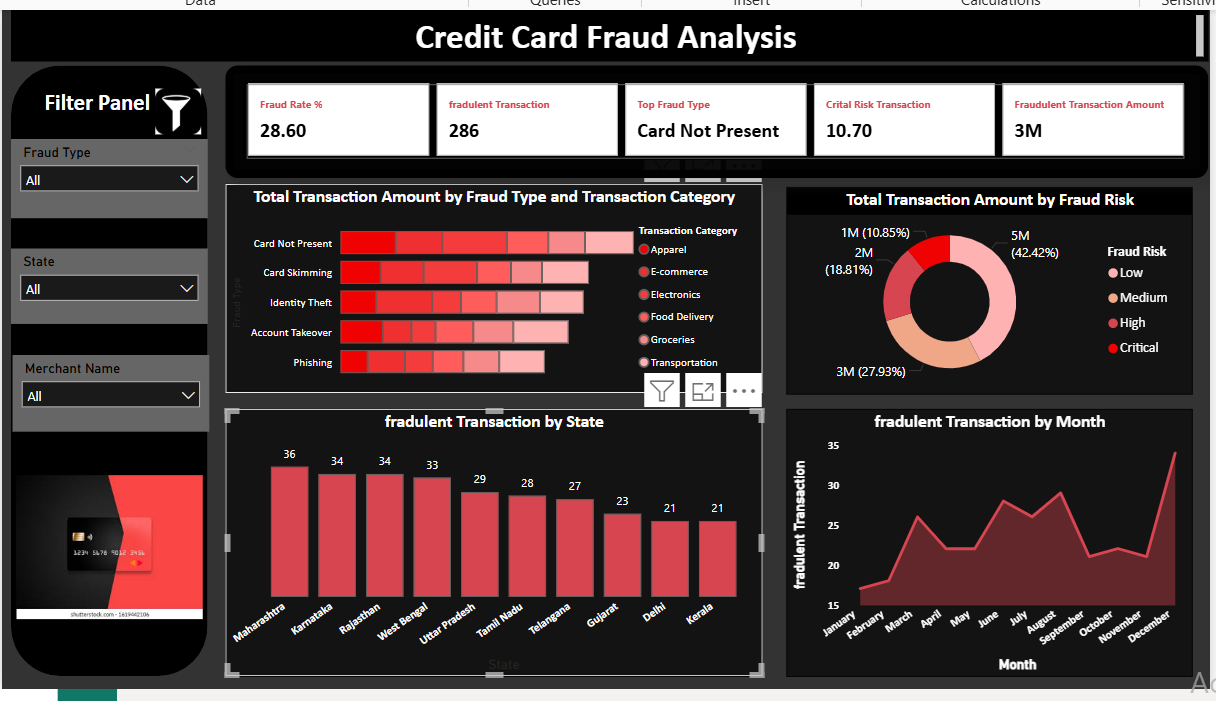

This screenshot's page, from the dashboard's own definition file:
{"tool":"powerbi","page":{"name":"Page 1","canvas":[1280,720],"ordinal":0},"visuals":[{"type":"textbox","box":[9.4,0,1269.9,54.8],"z":0},{"type":"shape","box":[9.5,58.9,208.4,647.4],"z":1000},{"type":"textbox","box":[31.8,77.9,138.4,58.9],"z":2000},{"type":"image","box":[155.9,77.9,62,58.9],"z":3000},{"type":"barChart","fields":{"Y":["Credit Card Fraud Risk Analysis.Total Transaction Amount"],"Category":["Credit Card Fraud Risk Analysis.Fraud Type"],"Series":["Credit Card Fraud Risk Analysis.Transaction Category"]},"box":[237.6,185,568.6,220],"z":4000},{"type":"donutChart","fields":{"Y":["Credit Card Fraud Risk Analysis.Total Transaction Amount"],"Category":["Credit Card Fraud Risk Analysis.Fraud Risk"]},"box":[831.5,186.9,430.3,220],"z":5000},{"type":"columnChart","fields":{"Category":["Credit Card Fraud Risk Analysis.State"],"Y":["Credit Card Fraud Risk Analysis.fradulent Transaction"]},"box":[237.6,422.6,568.6,284.3],"z":6000},{"type":"lineChart","fields":{"Y":["Credit Card Fraud Risk Analysis.fradulent Transaction"],"Category":["Credit Card Fraud Risk Analysis.Transaction Date.Variation.Date Hierarchy.Month"]},"box":[831.5,422.6,430.3,284.3],"z":7000},{"type":"slicer","fields":{"Values":["Credit Card Fraud Risk Analysis.Fraud Type"]},"box":[9.7,136.3,208.4,83.7],"z":8000},{"type":"slicer","fields":{"Values":["Credit Card Fraud Risk Analysis.State"]},"box":[9.7,253.1,208.4,79.8],"z":9000},{"type":"slicer","fields":{"Values":["Credit Card Fraud Risk Analysis.Merchant Name"]},"box":[11.1,365.8,208.4,81.1],"z":10000},{"type":"image","box":[9.7,420.6,208.4,299.9],"z":11000},{"type":"cardVisual","fields":{"Data":["Credit Card Fraud Risk Analysis.Fraud Rate %","Credit Card Fraud Risk Analysis.fradulent Transaction","Credit Card Fraud Risk Analysis.Top Fraud Type","Credit Card Fraud Risk Analysis.Crital Risk Transaction","Credit Card Fraud Risk Analysis.Fraudulent Transaction Amount","Credit Card Fraud Risk Analysis.Fraudulent Transaction Amount"]},"box":[237,58.9,1041.9,119.3],"z":12000}]}

Visuals, with their boxes on the page's 1280x720 design canvas (x1, y1, x2, y2). These are canvas units, not pixel positions in the 1216x701 screenshot, which may show the page scaled, cropped or inside an application window:
textbox: {"left": 9, "top": 0, "right": 1279, "bottom": 55}
shape: {"left": 10, "top": 59, "right": 218, "bottom": 706}
textbox: {"left": 32, "top": 78, "right": 170, "bottom": 137}
image: {"left": 156, "top": 78, "right": 218, "bottom": 137}
barChart - Credit Card Fraud Risk Analysis.Total Transaction Amount x Credit Card Fraud Risk Analysis.Fraud Type: {"left": 238, "top": 185, "right": 806, "bottom": 405}
donutChart - Credit Card Fraud Risk Analysis.Total Transaction Amount x Credit Card Fraud Risk Analysis.Fraud Risk: {"left": 832, "top": 187, "right": 1262, "bottom": 407}
columnChart - Credit Card Fraud Risk Analysis.State x Credit Card Fraud Risk Analysis.fradulent Transaction: {"left": 238, "top": 423, "right": 806, "bottom": 707}
lineChart - Credit Card Fraud Risk Analysis.fradulent Transaction x Credit Card Fraud Risk Analysis.Transaction Date.Variation.Date Hierarchy.Month: {"left": 832, "top": 423, "right": 1262, "bottom": 707}
slicer - Credit Card Fraud Risk Analysis.Fraud Type: {"left": 10, "top": 136, "right": 218, "bottom": 220}
slicer - Credit Card Fraud Risk Analysis.State: {"left": 10, "top": 253, "right": 218, "bottom": 333}
slicer - Credit Card Fraud Risk Analysis.Merchant Name: {"left": 11, "top": 366, "right": 220, "bottom": 447}
image: {"left": 10, "top": 421, "right": 218, "bottom": 720}
cardVisual - Credit Card Fraud Risk Analysis.Fraud Rate % x Credit Card Fraud Risk Analysis.fradulent Transaction: {"left": 237, "top": 59, "right": 1279, "bottom": 178}
